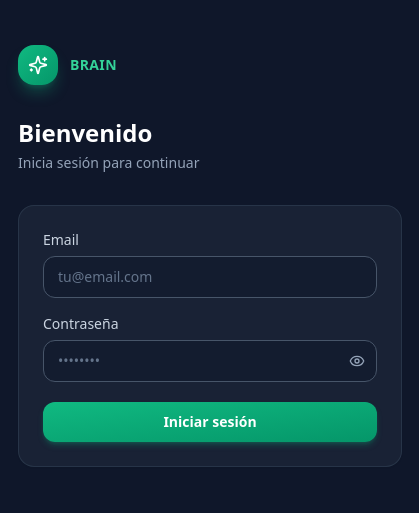
Scenario: LoginPage › shows error message on failed login
This screenshot has width=419, height=513.
Step 1. Type "user@example.com" into the field with placeholder "tu@email.com" → (210, 277), box top-left (43, 256), bottom-right (377, 298)
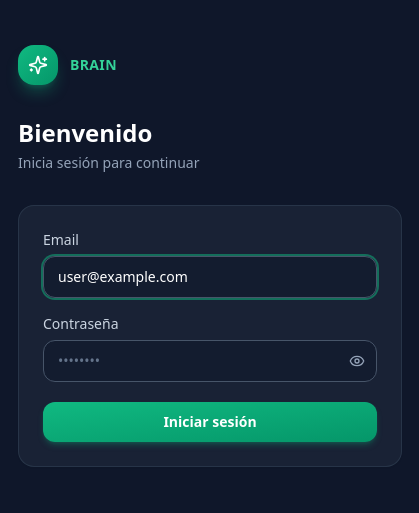
Step 2. Type "wrongpassword" into the password field with placeholder "••••••••" → (210, 361), box top-left (43, 340), bottom-right (377, 382)
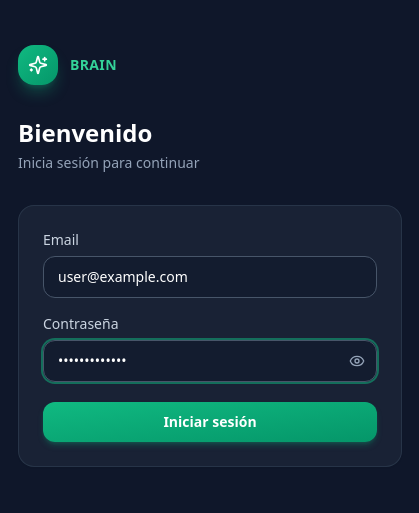
Step 3. Click the button "Iniciar sesión" → (210, 422), box top-left (43, 402), bottom-right (377, 442)
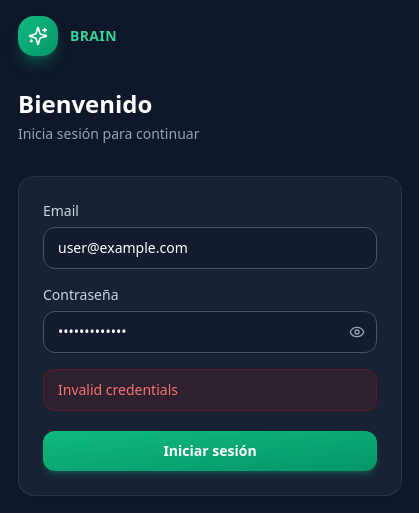
Expected: the text "Invalid credentials" is shown, top-left (43, 369), bottom-right (377, 411)
